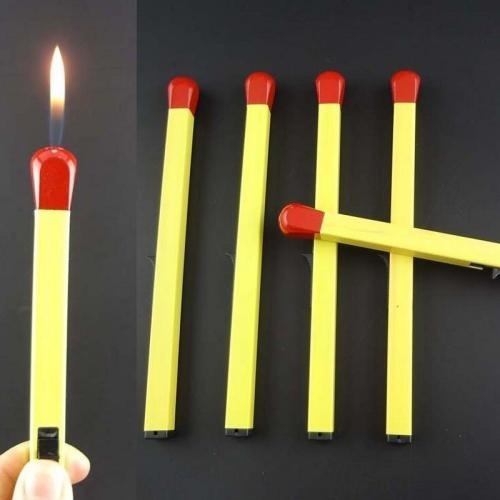fire: (47, 40, 68, 144)
